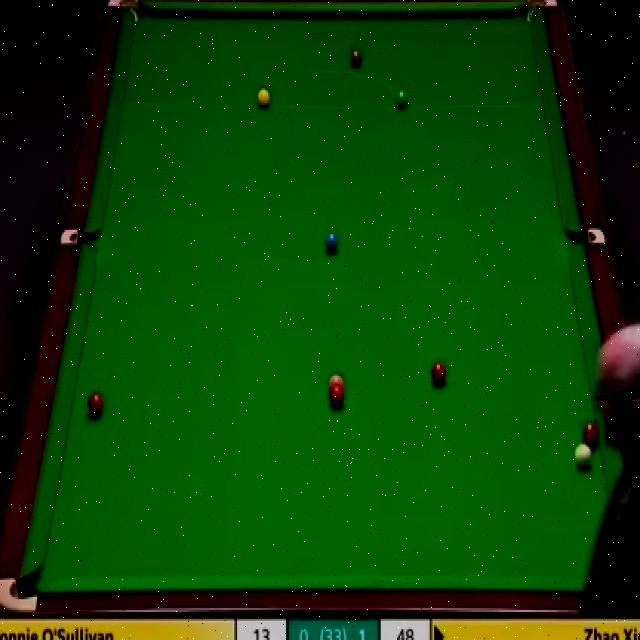blue-ball: (325, 230, 340, 254)
brown-ball: (349, 48, 363, 69)
green-ball: (394, 88, 408, 110)
pink-ball: (328, 374, 345, 389)
red-ball: (87, 390, 105, 419), (582, 423, 600, 447), (431, 361, 446, 387), (328, 386, 345, 408)
white-ball: (573, 442, 592, 470)
yellow-ball: (259, 90, 272, 110)
